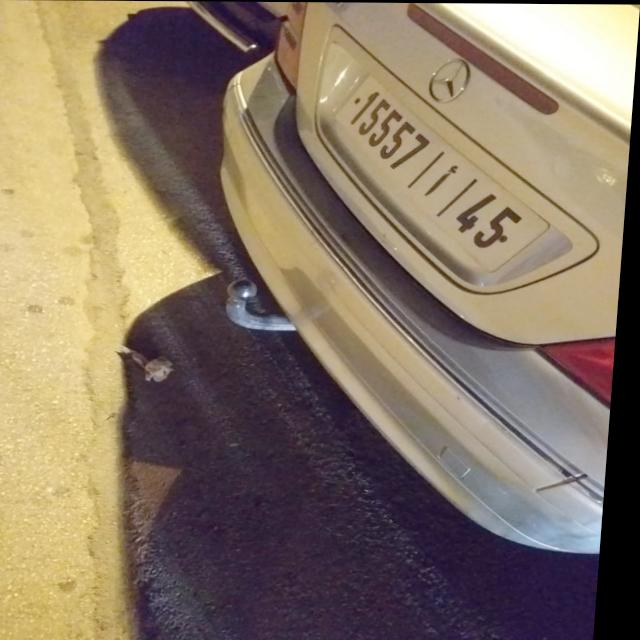License-Plate: (333, 75, 552, 274)
